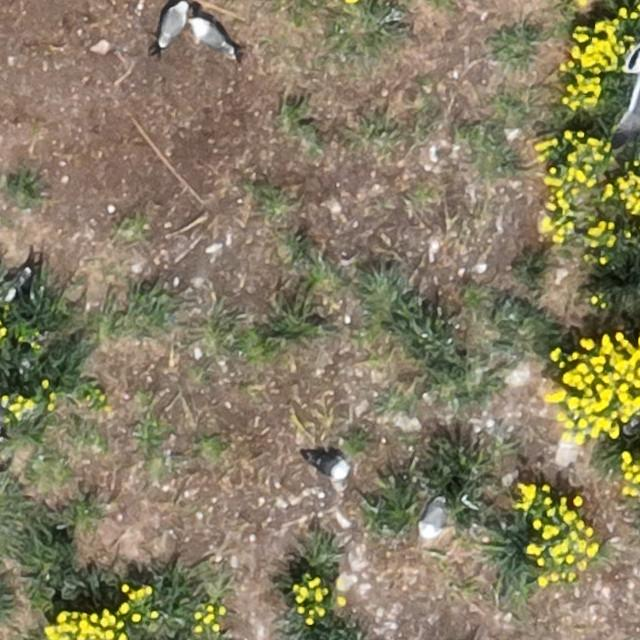umineko: (159, 2, 187, 44), (194, 20, 228, 52), (310, 456, 350, 479), (422, 501, 444, 535)
